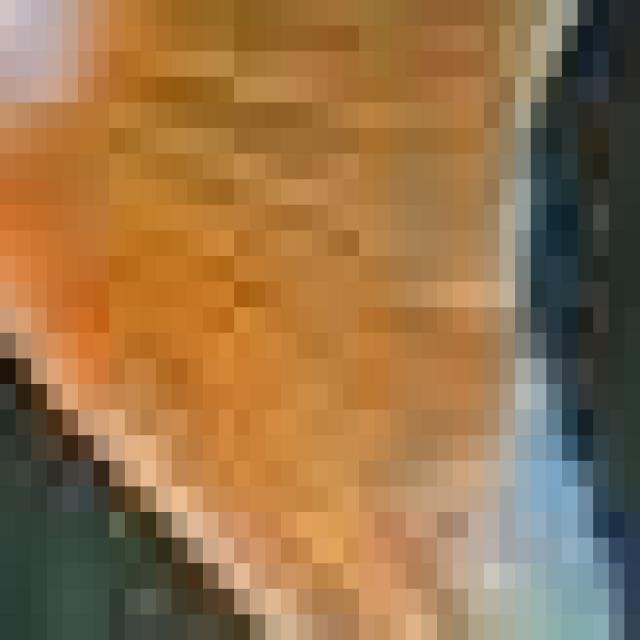fish: (15, 0, 640, 615)
